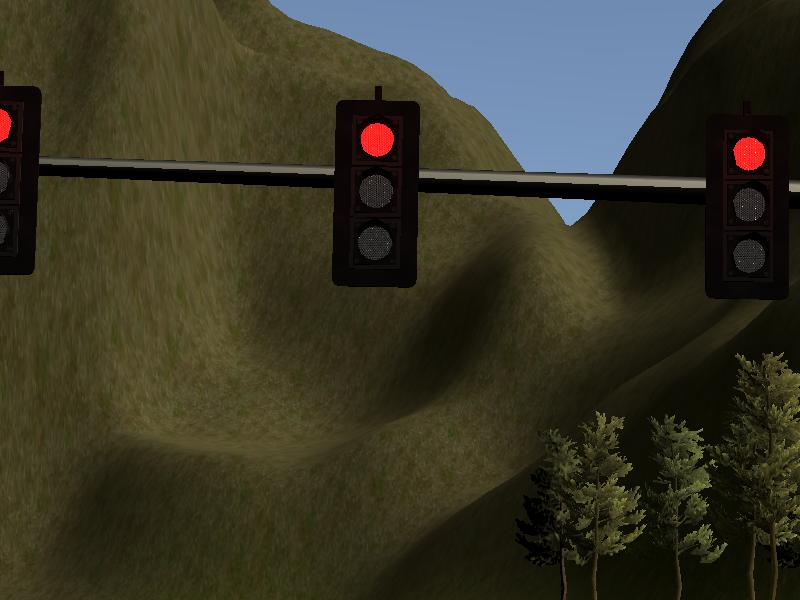red: (333, 99, 417, 287), (705, 110, 789, 298)
